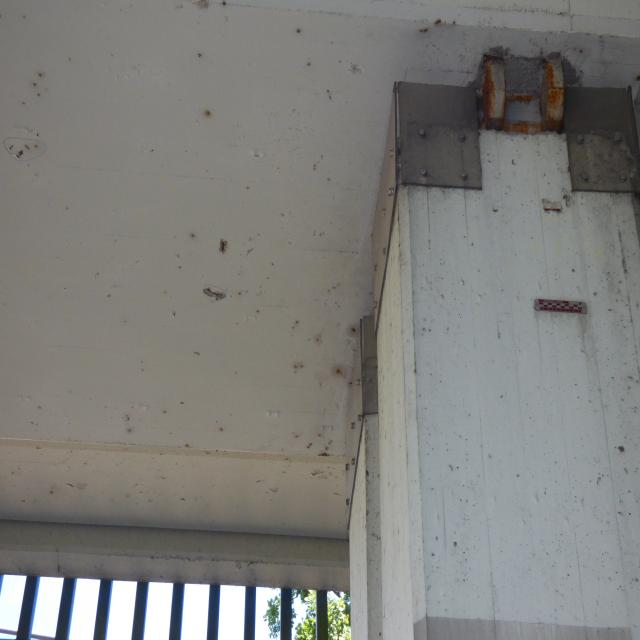corrosion: (466, 46, 583, 138), (162, 224, 266, 322), (291, 18, 344, 189), (118, 396, 232, 457), (282, 311, 360, 387), (2, 65, 56, 163), (189, 0, 230, 125), (284, 424, 341, 462), (585, 138, 616, 181), (417, 14, 458, 36), (540, 192, 572, 217), (633, 69, 640, 87)
